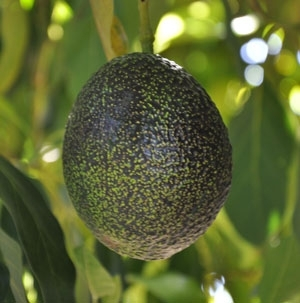unfit_avocado: (60, 46, 237, 269)
